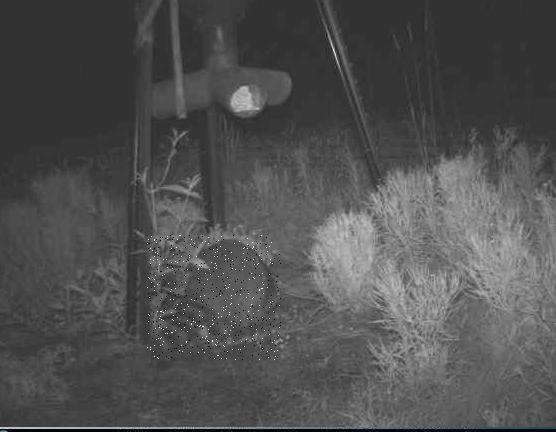Raccoon: (147, 236, 281, 361)
